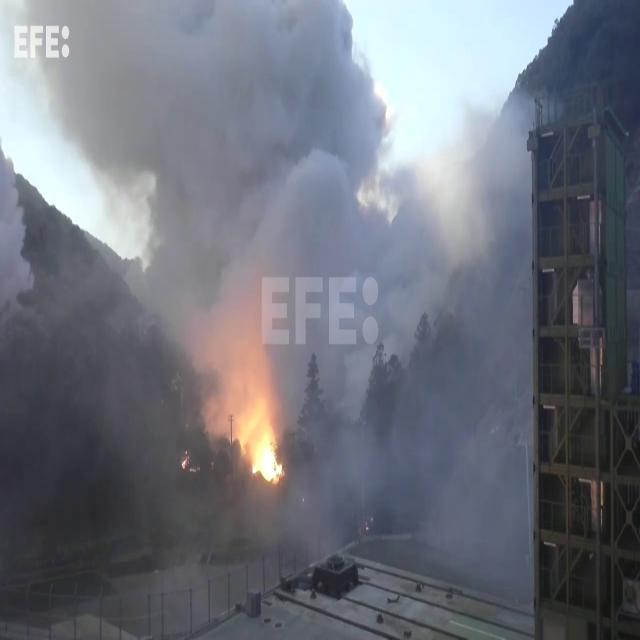Fire: (230, 386, 286, 488)
Smoke: (294, 70, 536, 576), (42, 0, 380, 356)
